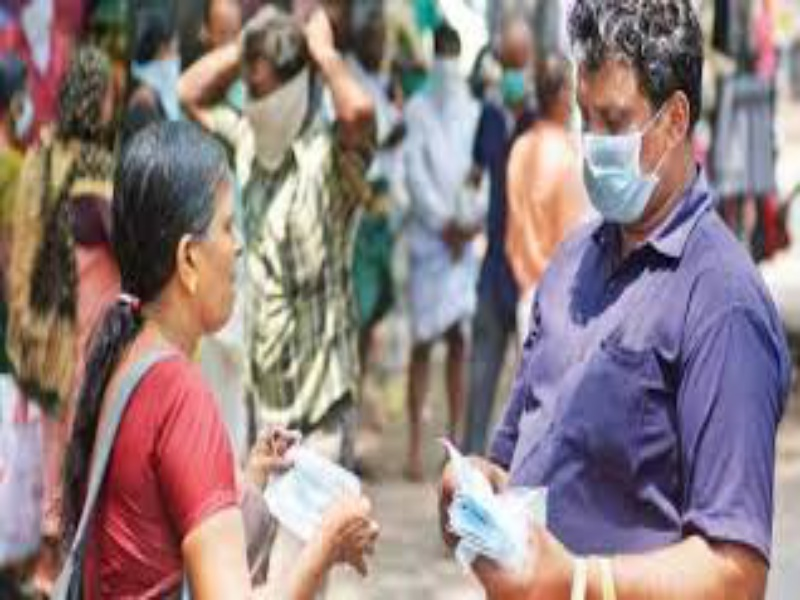ManaoArotava: (551, 13, 709, 226)
